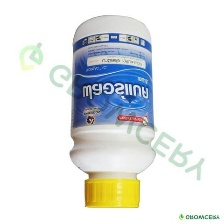insecticide: (67, 12, 157, 211)
